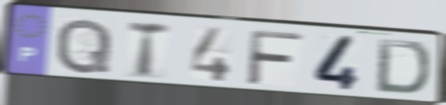4: (311, 33, 366, 95), (189, 25, 232, 85)
D: (373, 37, 432, 97)
F: (244, 28, 307, 88)
Q: (53, 16, 115, 76)
T: (125, 20, 173, 81)
